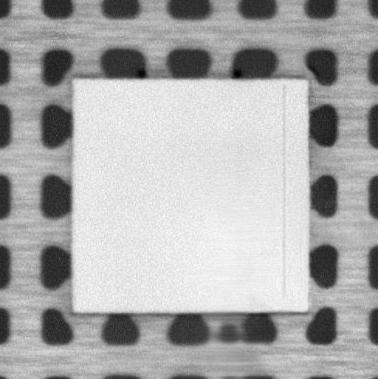DIE_CRACK: (279, 83, 290, 300)
